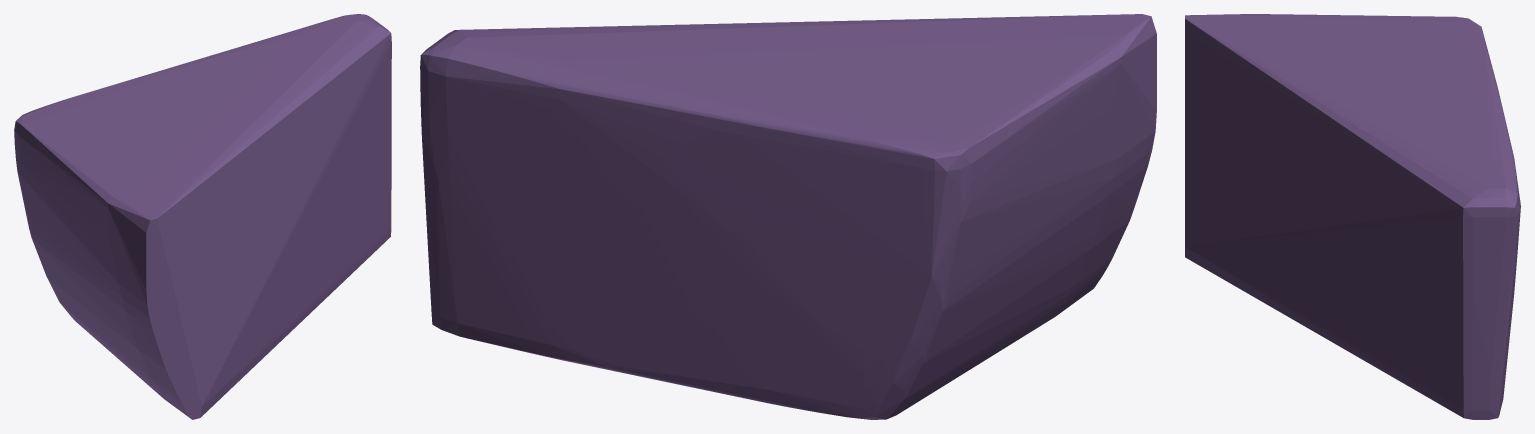
Rendered from right-hip-pitch-0_part_1.obj.
3 views of the same model, side by side, from view 1: azimuth 30°, elevation 25°; view 2: azimuth 150°, elevation 25°; view 3: azimuth 270°, elevation 25° (orthographic). The views are drawn at different scales.
Bounding box in the file's own units: 0.0663 × 0.036 × 0.0482.
